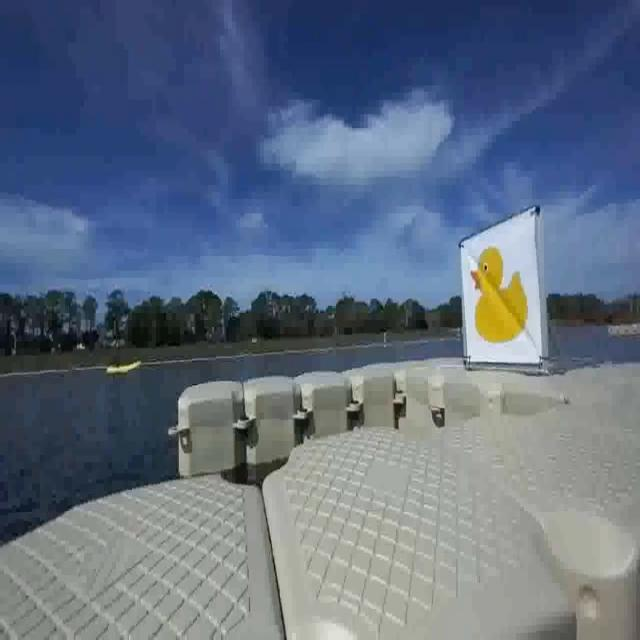yellow-duck: (470, 242, 529, 344)
